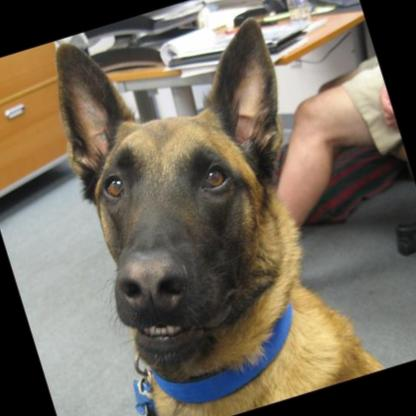malinois: (20, 0, 386, 416)
